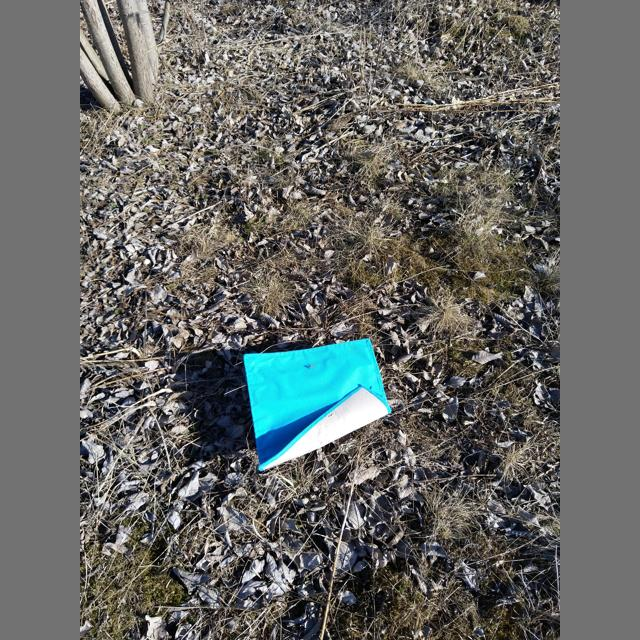litter: (243, 338, 391, 472)
